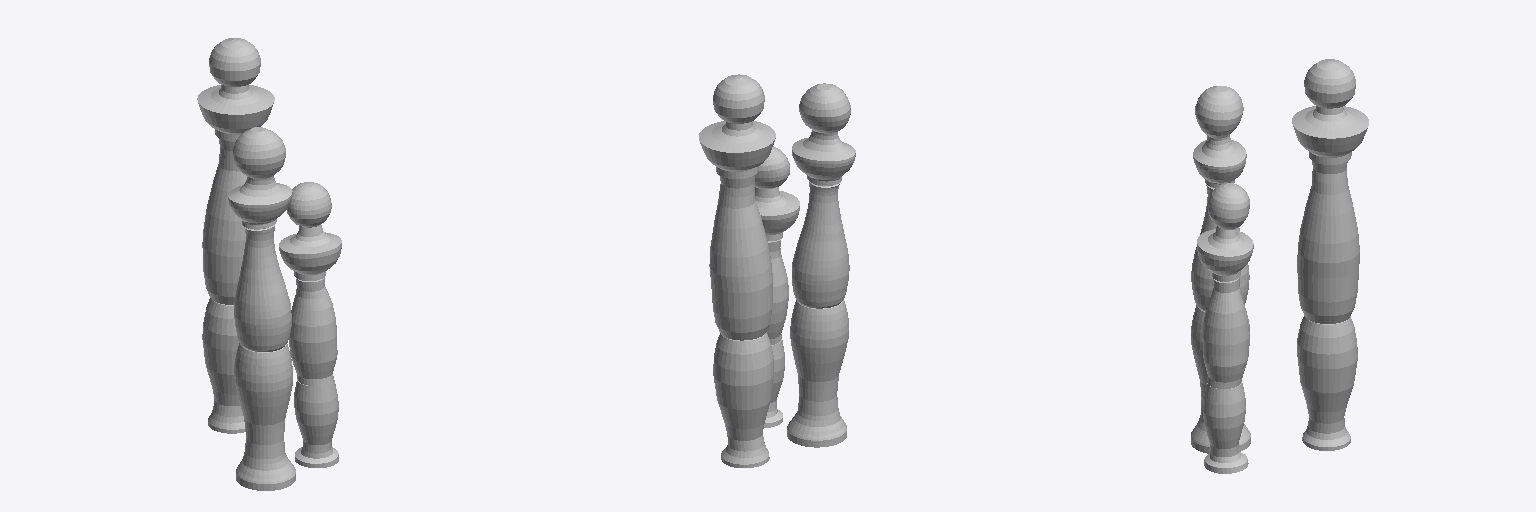
The model's file is scacchi.obj.
3 views of the same model, side by side, from view 1: azimuth 30°, elevation 25°; view 2: azimuth 150°, elevation 25°; view 3: azimuth 270°, elevation 25° (orthographic).
Visible parts, largest first — view 1: scacco_1_Cerchio.002, scacco_alto_Cerchio.001, scacco_basso_Cerchio.007; view 2: scacco_alto_Cerchio.001, scacco_1_Cerchio.002, scacco_basso_Cerchio.007; view 3: scacco_alto_Cerchio.001, scacco_basso_Cerchio.007, scacco_1_Cerchio.002.
Part boxes in pixels (bbox=[...]): scacco_1_Cerchio.002: bbox=[228, 127, 295, 490]; scacco_alto_Cerchio.001: bbox=[197, 38, 274, 433]; scacco_basso_Cerchio.007: bbox=[279, 182, 341, 467]; scacco_alto_Cerchio.001: bbox=[699, 74, 775, 467]; scacco_1_Cerchio.002: bbox=[787, 83, 855, 447]; scacco_basso_Cerchio.007: bbox=[755, 146, 799, 427]; scacco_alto_Cerchio.001: bbox=[1292, 59, 1368, 450]; scacco_basso_Cerchio.007: bbox=[1197, 183, 1253, 473]; scacco_1_Cerchio.002: bbox=[1191, 86, 1250, 453].
Bounding box in the file's own units: 1.16 × 3.94 × 1.63.